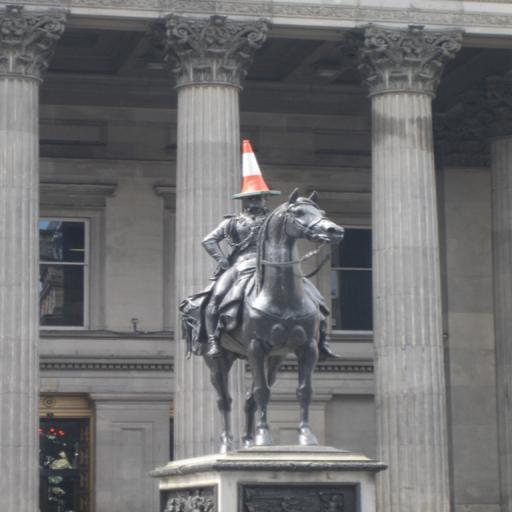horse: (179, 184, 347, 455)
